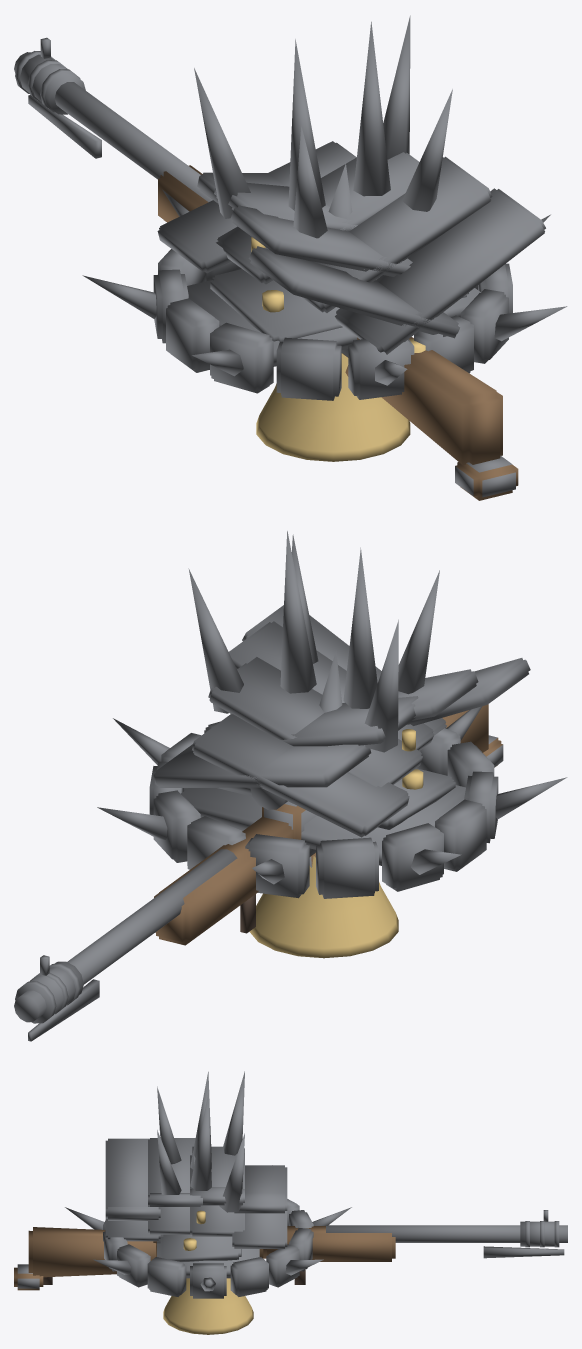
Rendered from varkas_gear.glb.
The picture shows the model from 3 angles, top to bottom: view 1: azimuth 30°, elevation 25°; view 2: azimuth 150°, elevation 25°; view 3: azimuth 270°, elevation 25°; orthographic projection. The views are drawn at different scales.
Parts seen in each view (by area): view 1: Pauldron_R, Collar, Pauldron_L, Rifle, Bell, SpinePlate; view 2: Pauldron_R, Collar, Pauldron_L, Rifle, Bell, SpinePlate; view 3: Pauldron_L, Rifle, Collar, Pauldron_R, Bell, SpinePlate.
Part boxes in pixels (x1=…): Pauldron_R: x1=157, y1=15, x2=545, y2=354; Collar: x1=82, y1=189, x2=567, y2=400; Pauldron_L: x1=194, y1=39, x2=459, y2=338; Rifle: x1=14, y1=37, x2=518, y2=500; Bell: x1=256, y1=353, x2=410, y2=461; SpinePlate: x1=187, y1=163, x2=480, y2=366; Pauldron_R: x1=188, y1=531, x2=446, y2=837; Collar: x1=97, y1=706, x2=567, y2=898; Pauldron_L: x1=153, y1=547, x2=530, y2=787; Rifle: x1=14, y1=704, x2=503, y2=1041; Bell: x1=249, y1=856, x2=398, y2=958; SpinePlate: x1=181, y1=651, x2=465, y2=865; Pauldron_L: x1=105, y1=1071, x2=287, y2=1248; Rifle: x1=14, y1=1210, x2=567, y2=1290; Collar: x1=65, y1=1199, x2=351, y2=1298; Pauldron_R: x1=105, y1=1093, x2=287, y2=1224; Bell: x1=163, y1=1278, x2=253, y2=1334; SpinePlate: x1=157, y1=1154, x2=259, y2=1278.
Size of the model in its own units: 0.7661 by 0.72 by 1.51.
